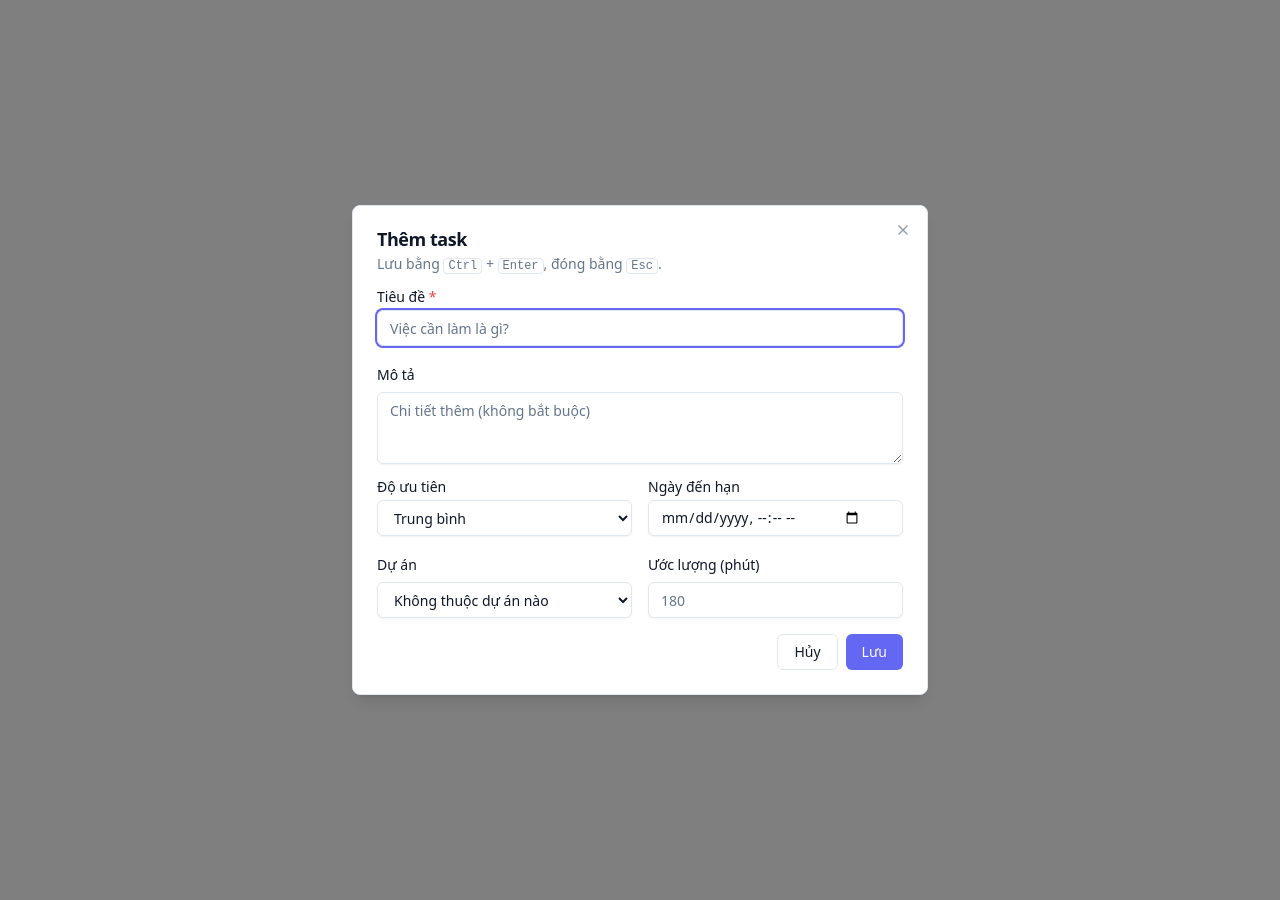
Test: TaskFormDialog › T1-13 — tiêu đề rỗng hiện lỗi inline và KHÔNG gọi API
Click the button "Lưu". click: (874, 652)
box: [846,634,903,670]
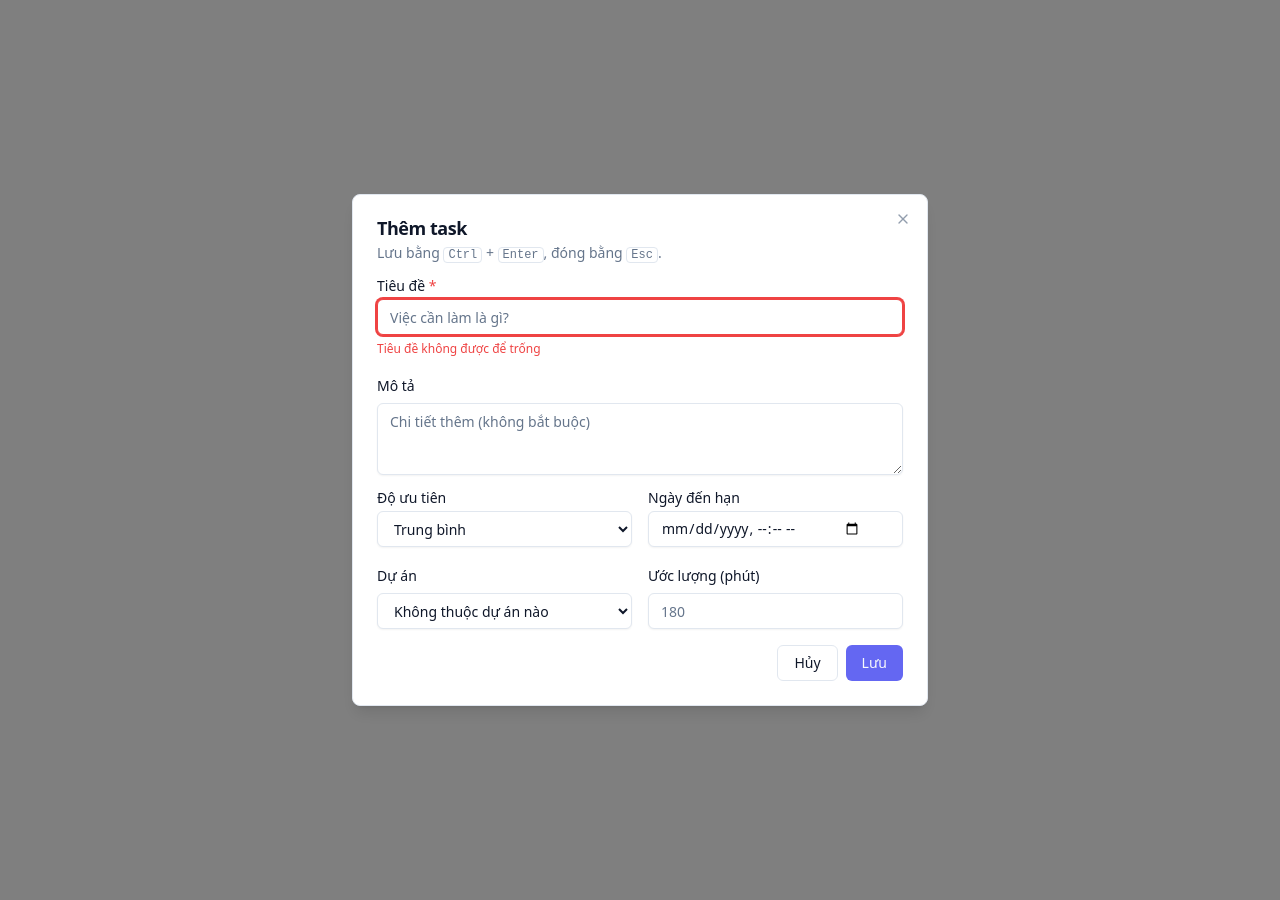
Now the message reads "Tiêu đề không được để trống", box [377,340,540,357]
